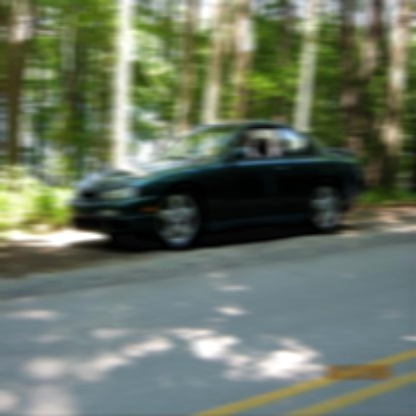Vehicle: (65, 120, 364, 249)
